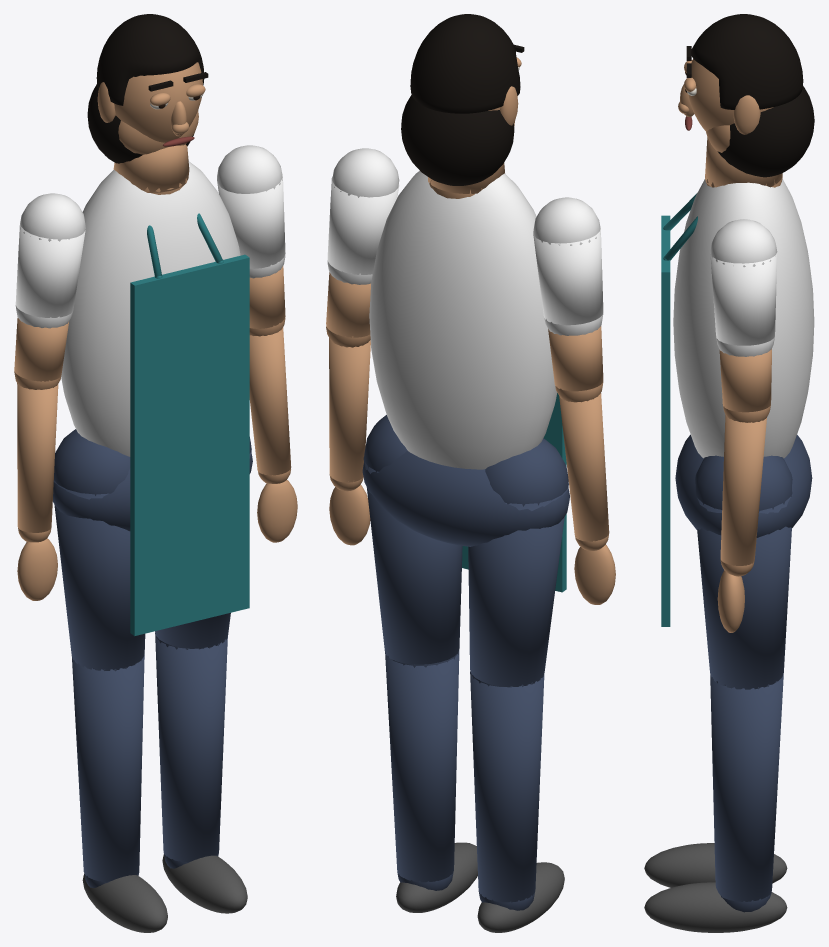
The model's file is trang.glb.
3 views of the same model, side by side, from view 1: azimuth 30°, elevation 25°; view 2: azimuth 150°, elevation 25°; view 3: azimuth 270°, elevation 25° (orthographic). The views are drawn at different scales.
Parts seen in each view (by area): view 1: Cube, Sphere.011, Cone.003, Cone.001, Cone, Sphere.030, Cone.009, Cone.012, Cone.007, Cone.010, Sphere.018, Sphere (+13 smaller); view 2: Sphere.011, Cone.003, Cone.001, Cone, Cone.002, Sphere.010, Sphere.030, Sphere.031, Cone.009, Cone.007, Cone.012, Cone.010 (+13 smaller); view 3: Sphere.011, Cone.003, Cone.002, Sphere.030, Cone.012, Cone.010, Sphere.031, Sphere.009, Sphere.010, Cube, Cone.011, Sphere.004 (+11 smaller).
Part boxes in pixels (x1=…): Cube: x1=130, y1=254, x2=249, y2=635; Sphere.011: x1=61, y1=161, x2=240, y2=456; Cone.003: x1=155, y1=633, x2=227, y2=862; Cone.001: x1=72, y1=654, x2=144, y2=882; Cone: x1=53, y1=480, x2=145, y2=670; Sphere.030: x1=96, y1=14, x2=204, y2=105; Cone.009: x1=17, y1=383, x2=58, y2=532; Cone.012: x1=249, y1=327, x2=291, y2=475; Cone.007: x1=15, y1=223, x2=85, y2=317; Cone.010: x1=217, y1=173, x2=285, y2=268; Sphere.018: x1=114, y1=62, x2=202, y2=142; Sphere: x1=54, y1=429, x2=130, y2=495; Sphere.011: x1=369, y1=171, x2=557, y2=469; Cone.003: x1=385, y1=650, x2=459, y2=882; Cone.001: x1=470, y1=672, x2=544, y2=902; Cone: x1=468, y1=483, x2=568, y2=687; Cone.002: x1=363, y1=457, x2=462, y2=664; Sphere.010: x1=362, y1=450, x2=569, y2=546; Sphere.030: x1=410, y1=14, x2=520, y2=113; Sphere.031: x1=401, y1=95, x2=514, y2=185; Cone.009: x1=559, y1=393, x2=609, y2=541; Cone.007: x1=533, y1=227, x2=603, y2=325; Cone.012: x1=329, y1=338, x2=370, y2=482; Cone.010: x1=327, y1=176, x2=399, y2=274; Sphere.011: x1=673, y1=178, x2=814, y2=458; Cone.003: x1=710, y1=674, x2=783, y2=901; Cone.002: x1=697, y1=494, x2=792, y2=689; Sphere.030: x1=691, y1=14, x2=803, y2=109; Cone.012: x1=720, y1=415, x2=766, y2=565; Cone.010: x1=710, y1=252, x2=777, y2=345; Sphere.031: x1=717, y1=86, x2=814, y2=177; Sphere.009: x1=644, y1=882, x2=787, y2=932; Sphere.010: x1=675, y1=434, x2=812, y2=537; Cube: x1=661, y1=215, x2=670, y2=626; Cone.011: x1=719, y1=349, x2=771, y2=412; Sphere.004: x1=644, y1=843, x2=787, y2=887.
Size of the model in its own units: 0.522 by 1.58 by 0.2739.
